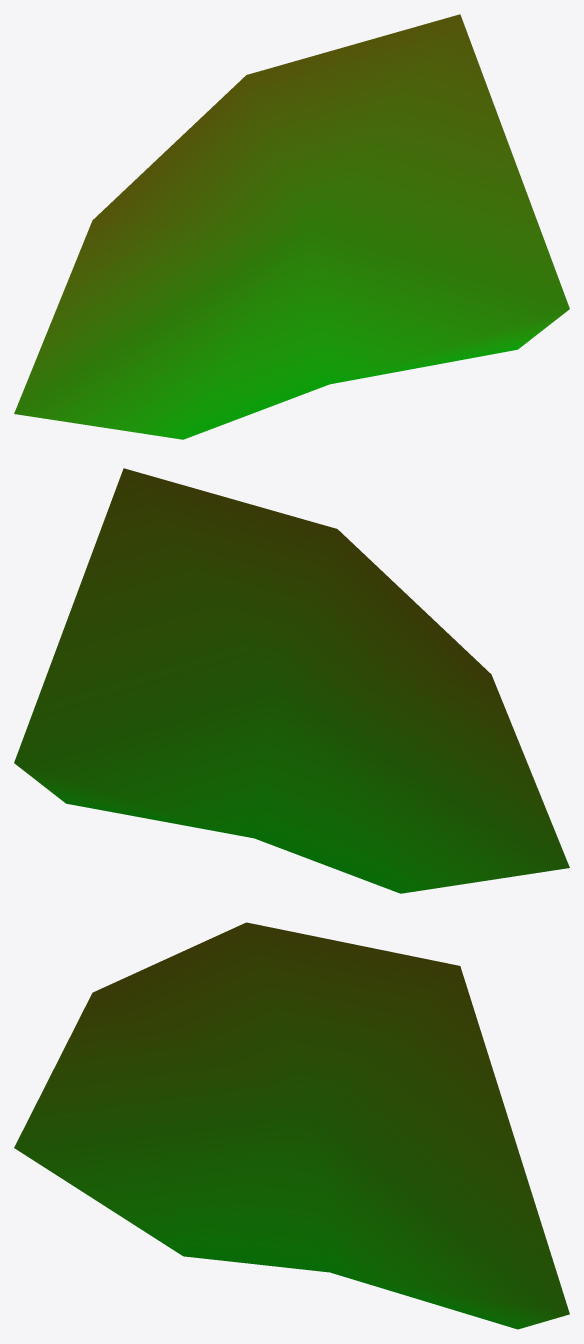
Rendered from Fern_LOD3_Var3_sbslY.fbx.
The picture shows the model from 3 angles, top to bottom: view 1: azimuth 30°, elevation 25°; view 2: azimuth 150°, elevation 25°; view 3: azimuth 330°, elevation 25°; orthographic projection.
Visible parts, largest first — view 1: _0a35_Var3_LOD3; view 2: _0a35_Var3_LOD3; view 3: _0a35_Var3_LOD3.
Part boxes in pixels (x1,y1,x2,y2): _0a35_Var3_LOD3: [14, 14, 569, 439]; _0a35_Var3_LOD3: [14, 468, 569, 893]; _0a35_Var3_LOD3: [14, 922, 569, 1329].
Bounding box in the file's own units: 120 × 73.76 × 2e-05.
